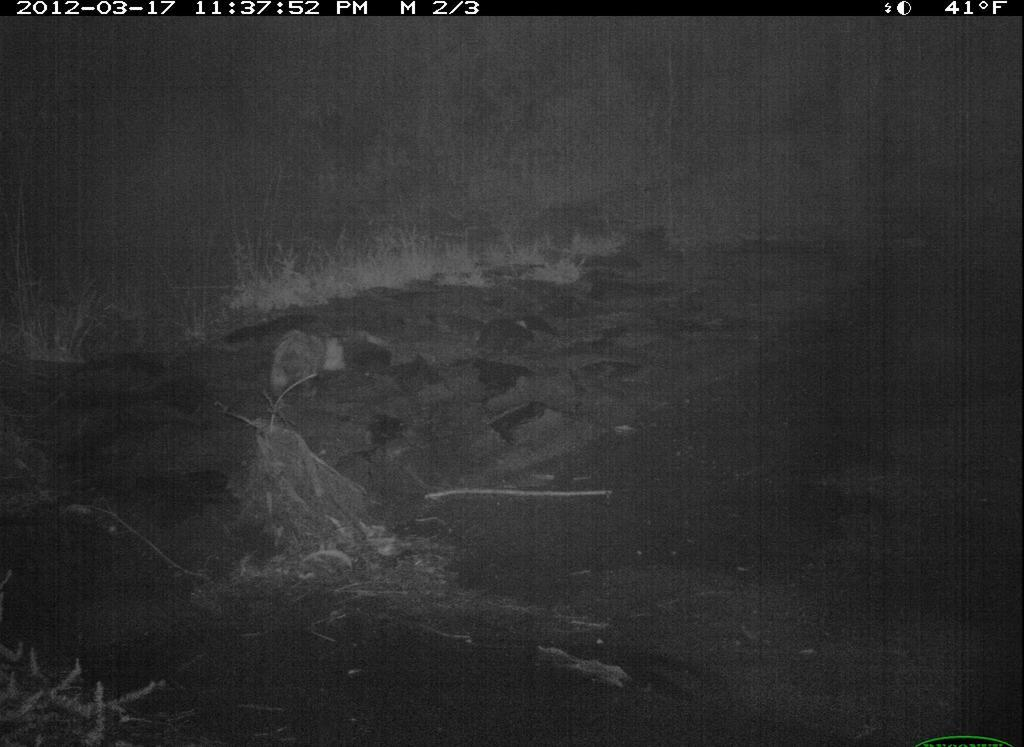opossum: (259, 315, 358, 405)
